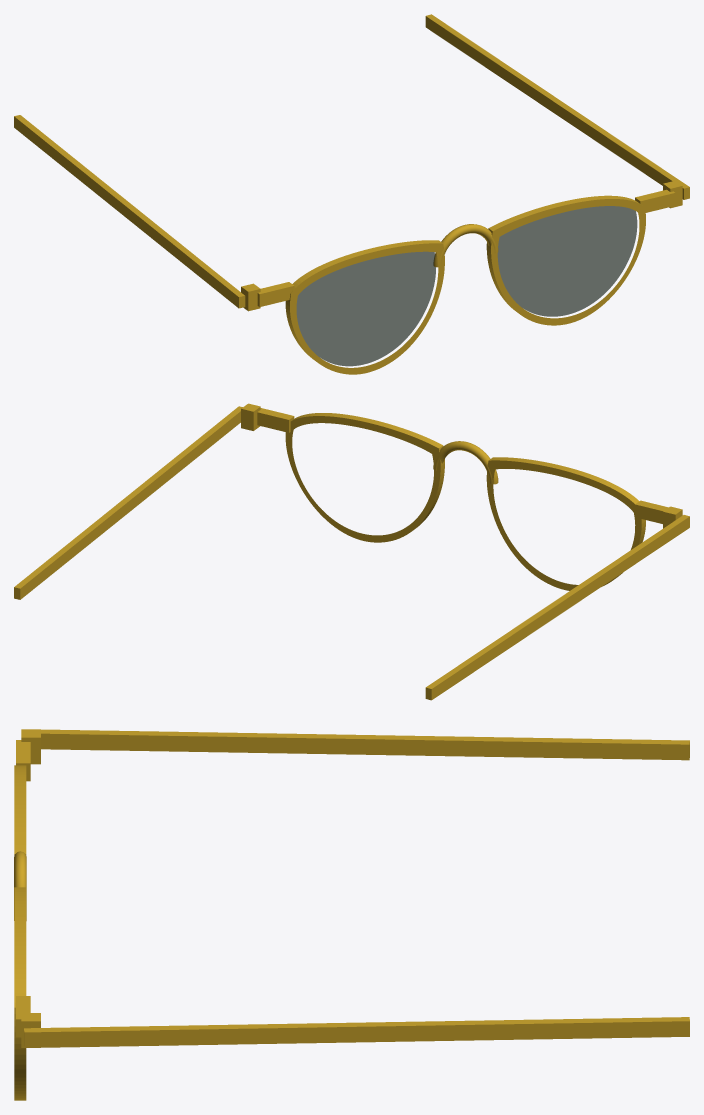
Rendered from glasses-aviator.glb.
3 views of the same model, one above another, from view 1: azimuth 30°, elevation 25°; view 2: azimuth 150°, elevation 25°; view 3: azimuth 270°, elevation 25° (orthographic). The views are drawn at different scales.
Parts seen in each view (by area): view 1: glasses-aviator; view 2: glasses-aviator; view 3: glasses-aviator.
Boxes of the visible parts, x1,y1,x2,y2 form: glasses-aviator: (14,14,689,374); glasses-aviator: (14,403,689,700); glasses-aviator: (14,729,689,1100).
Bounding box in the file's own units: 145 × 37.45 × 137.
